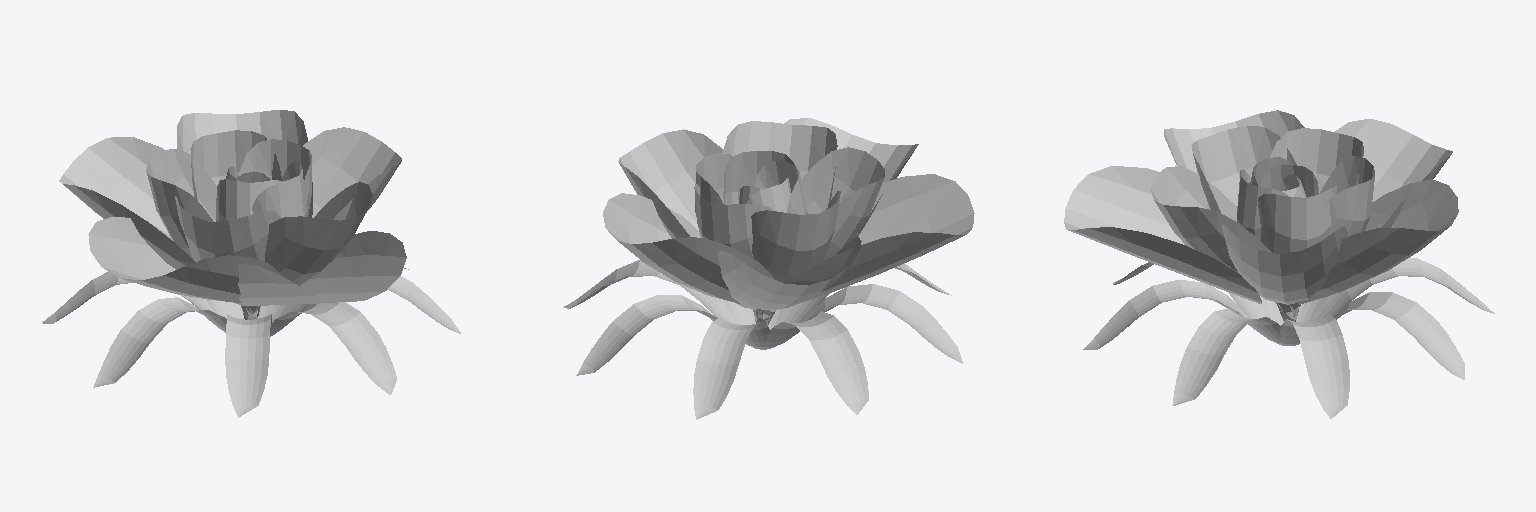
Rendered from FlowerTopModel_03_seq_0033.obj.
The picture shows the model from 3 angles: view 1: azimuth 30°, elevation 25°; view 2: azimuth 150°, elevation 25°; view 3: azimuth 270°, elevation 25°; orthographic projection.
Parts seen in each view (by area): view 1: FlowerTopModel_03; view 2: FlowerTopModel_03; view 3: FlowerTopModel_03.
Boxes of the visible parts, box(x1,y1,x2,y2) form: FlowerTopModel_03: box(42, 110, 460, 417); FlowerTopModel_03: box(564, 118, 974, 419); FlowerTopModel_03: box(1064, 110, 1494, 418).
Bounding box in the file's own units: 764 × 360 × 797.